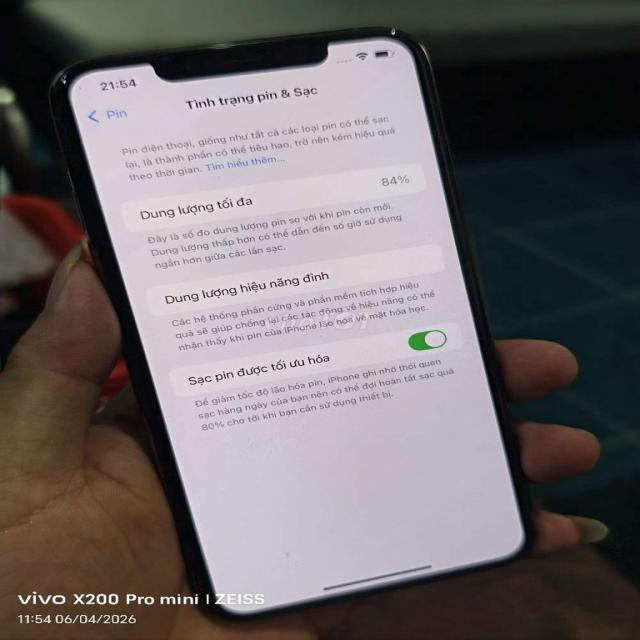gen_11: (52, 28, 532, 618)
